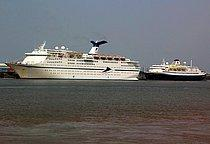Ship: (3, 39, 146, 84)
